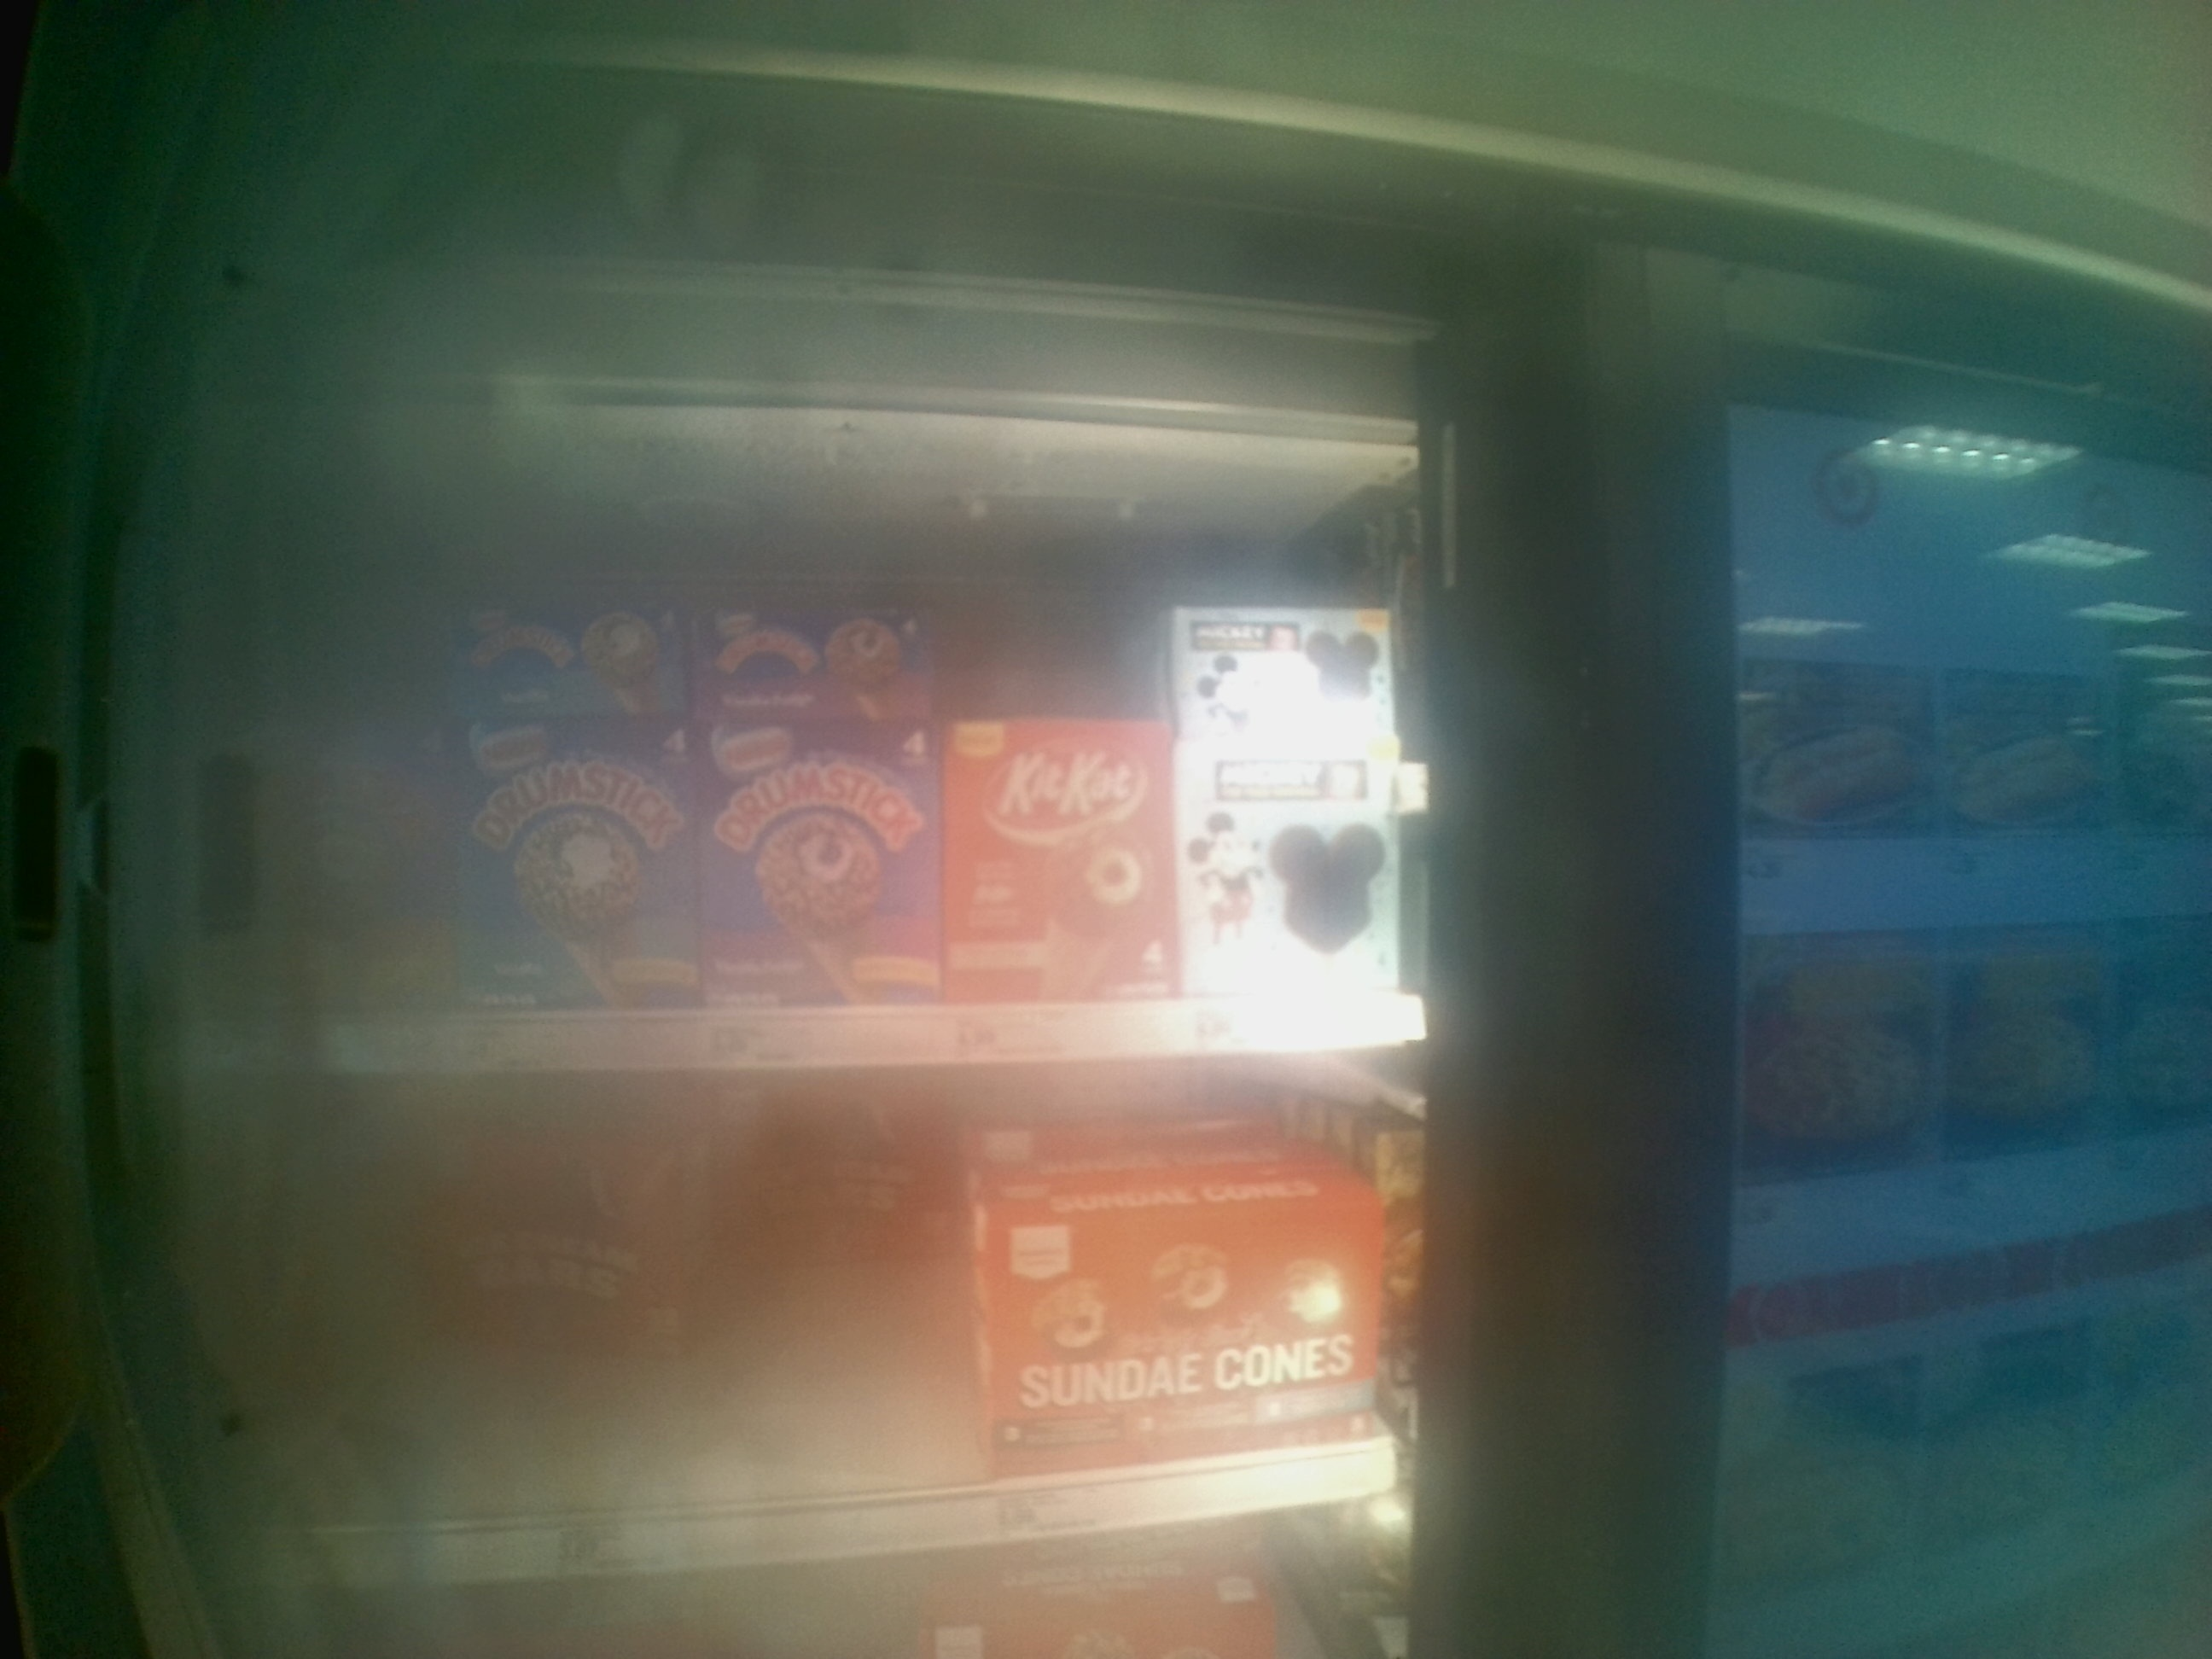frozen-food-shelf: (235, 532, 1430, 1075), (233, 1075, 1435, 1589)
